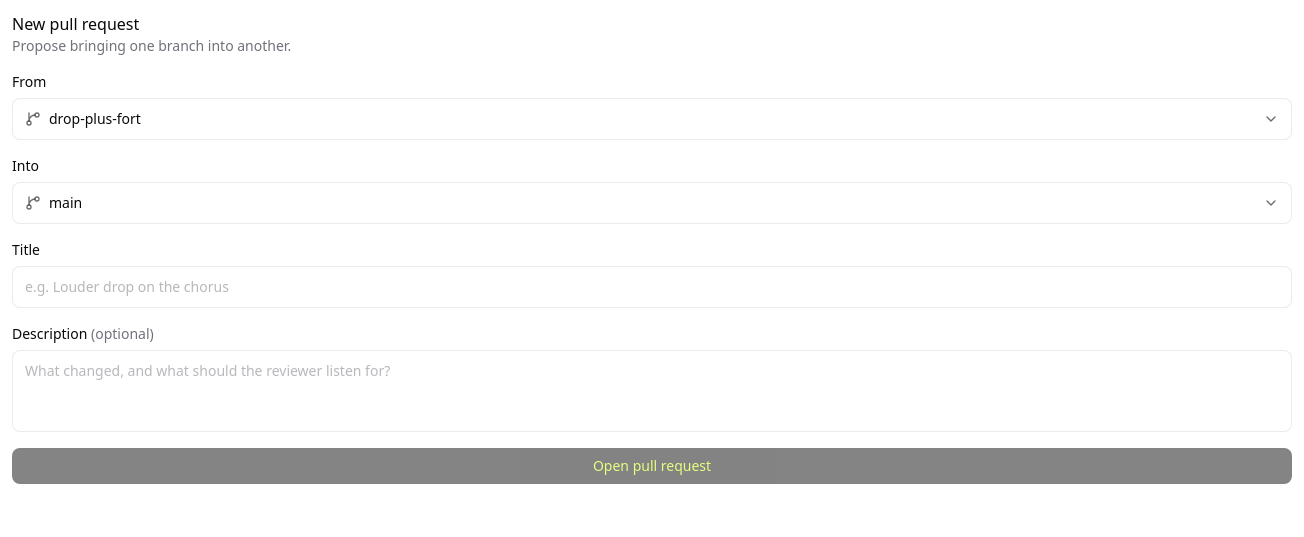
NewPullRequestForm › shows the server's refusal and keeps what was typed
In the field labelled "Title": (652, 287) [12,266,1292,308], type "Louder drop"
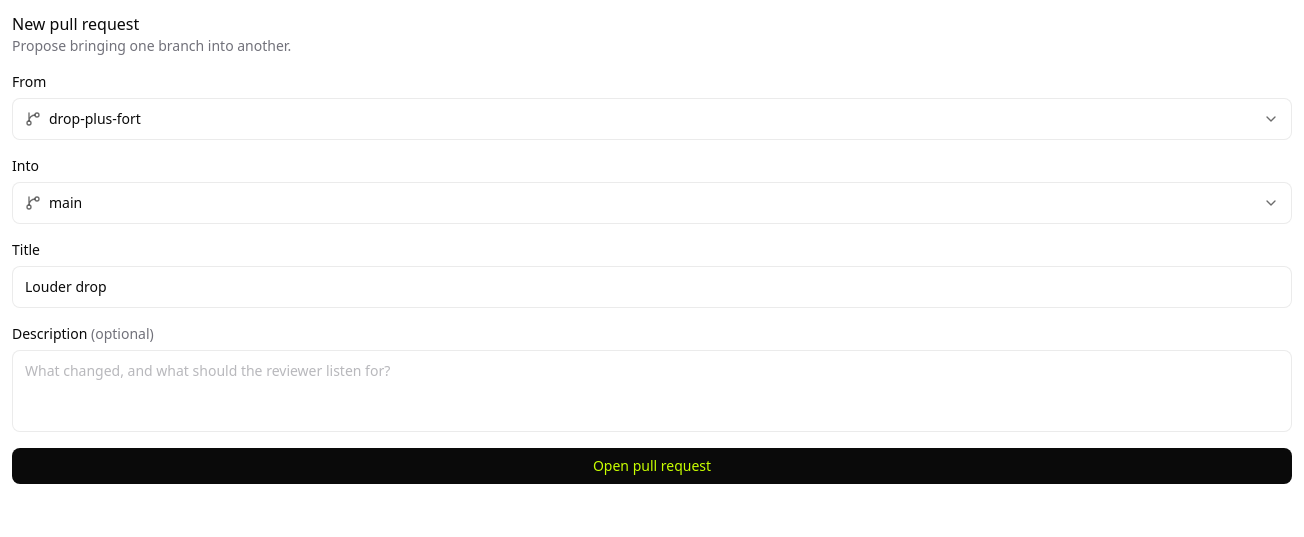
Click the button "Open pull request": (652, 466) [12,448,1292,484]
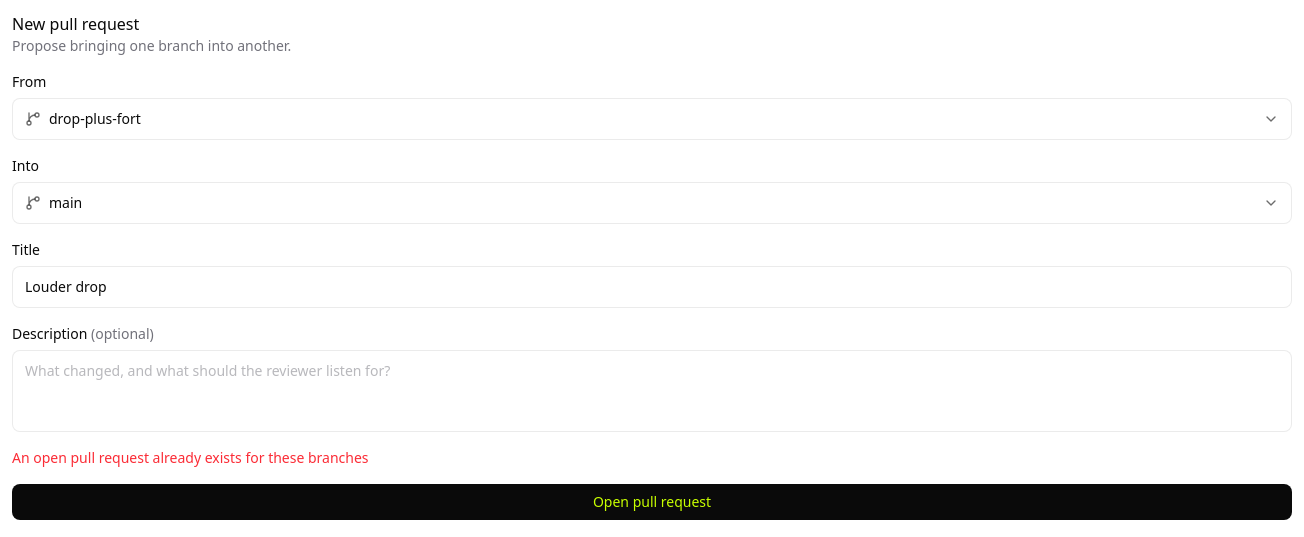
Check: the text "An open pull request already exists for these branches" is shown, box [12,448,369,467]
